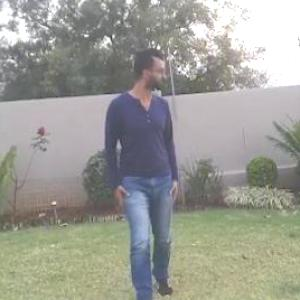follow: (98, 32, 192, 296)
